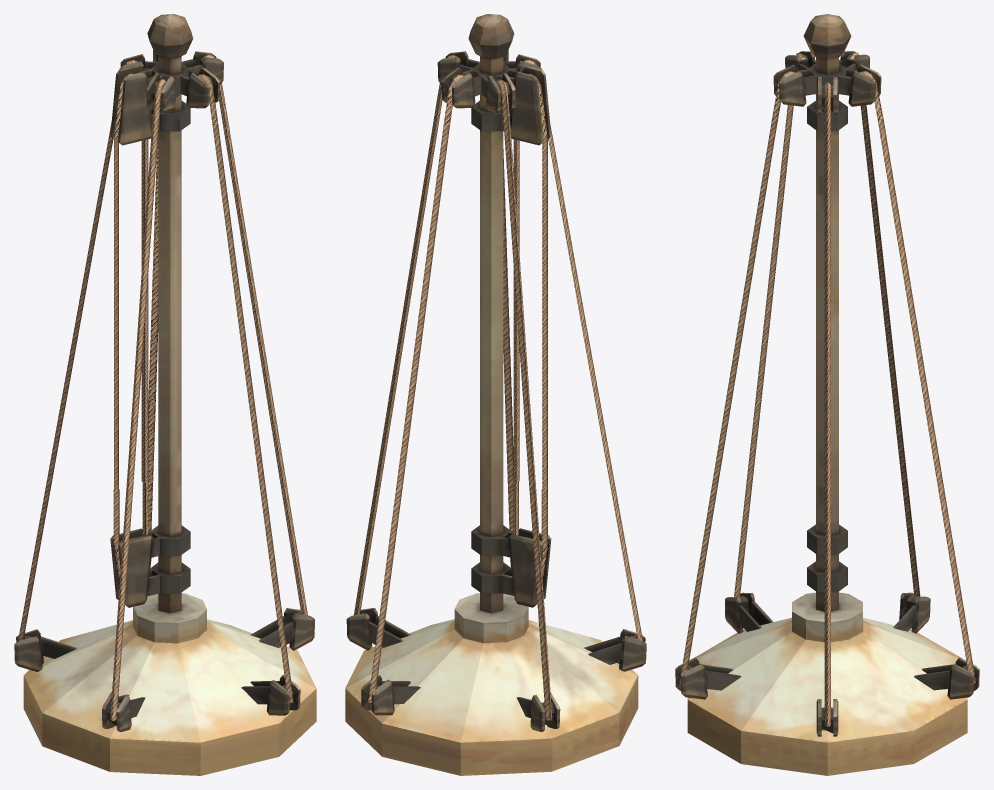
Rendered from C2FLAGPOLE.obj.
The picture shows the model from 3 angles, left to right: view 1: azimuth 30°, elevation 25°; view 2: azimuth 150°, elevation 25°; view 3: azimuth 270°, elevation 25°; orthographic projection.
Parts seen in each view (by area): view 1: Node 0, Node 2; view 2: Node 0, Node 2; view 3: Node 0.
Boxes of the visible parts, <box> form: Node 0: <box>14,14,316,775</box>; Node 2: <box>114,73,148,489</box>; Node 0: <box>345,14,646,775</box>; Node 2: <box>513,73,547,489</box>; Node 0: <box>675,14,979,775</box>.
Bounding box in the file's own units: 5.15 × 12.87 × 5.08.
Materials: 3 (3 with a texture image).
